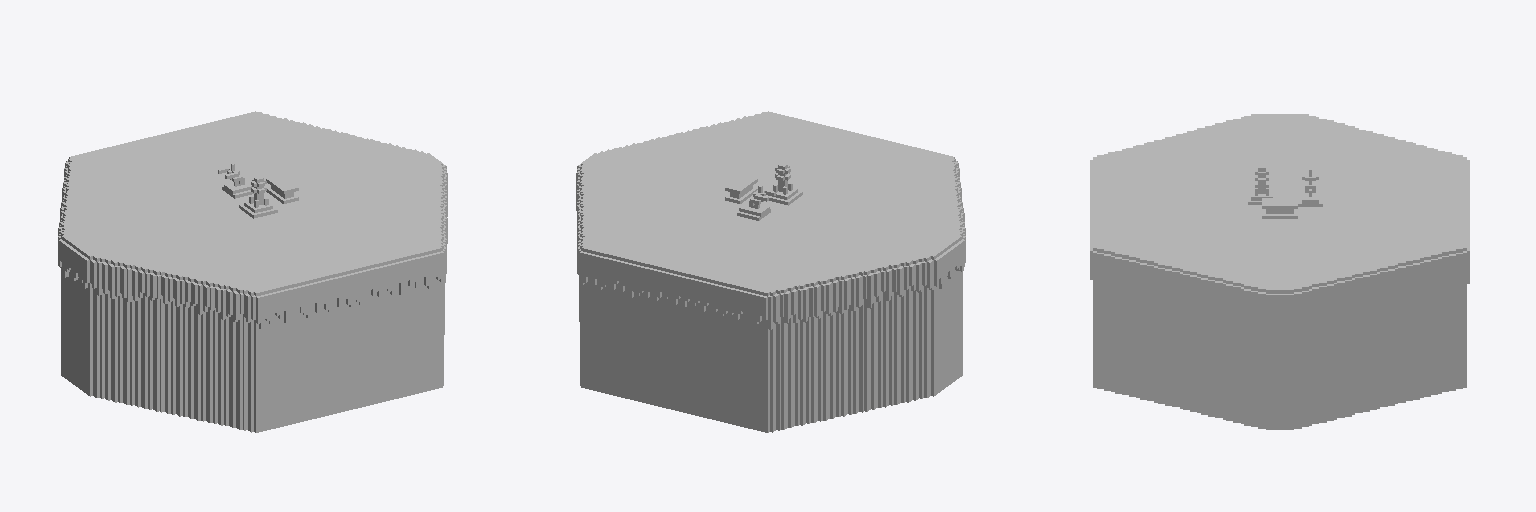
Rendered from protect_hex_plain.obj.
3 renders of one model, left to right at view 1: azimuth 30°, elevation 25°; view 2: azimuth 150°, elevation 25°; view 3: azimuth 270°, elevation 25°, orthographic.
Visible parts, largest first — view 1: object 1; view 2: object 1; view 3: object 1.
Part boxes in pixels (x1,y1,x2,y2): object 1: (58, 111, 447, 432); object 1: (576, 111, 965, 432); object 1: (1090, 114, 1469, 429).
Bounding box in the file's own units: 11.8 × 5.3 × 10.6.